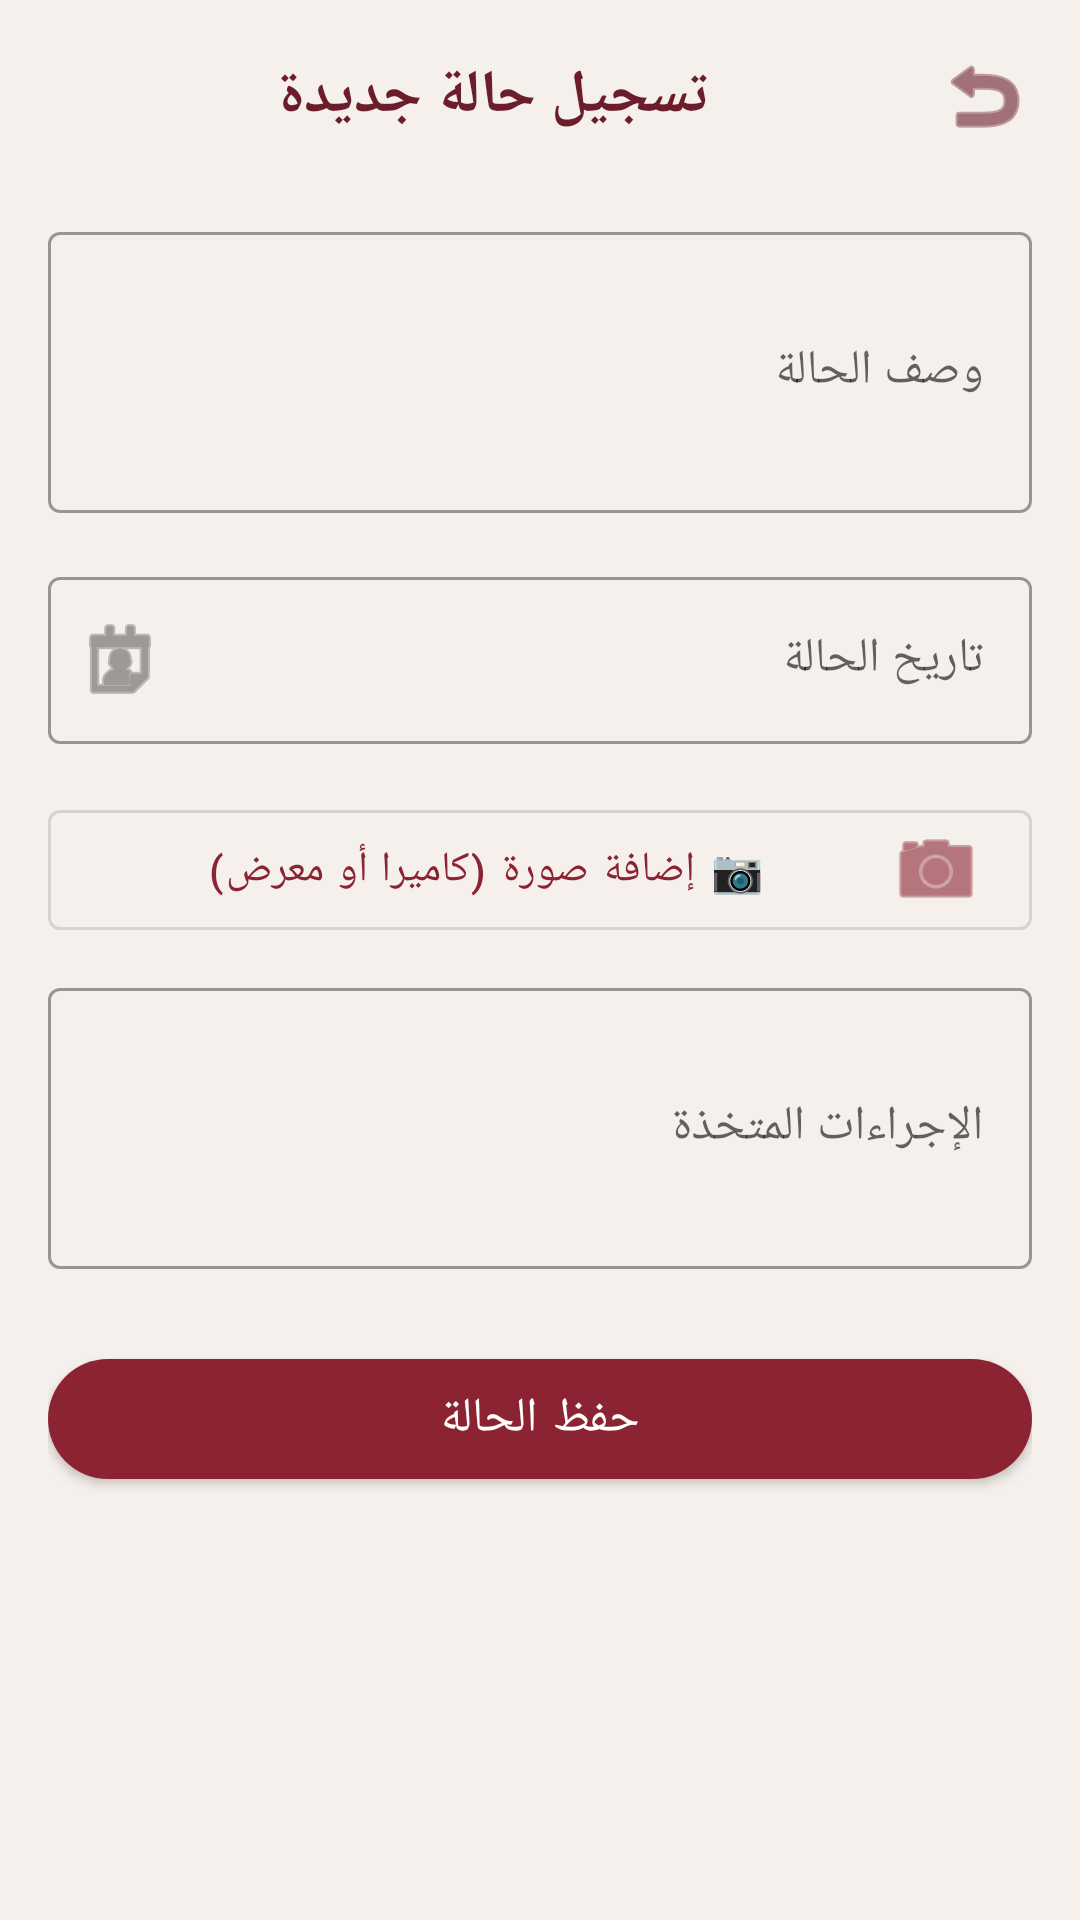

Point at icon controls on the screen. Image size 1080px x 1920px, points as point (x, y).
revert: point (985, 96)
